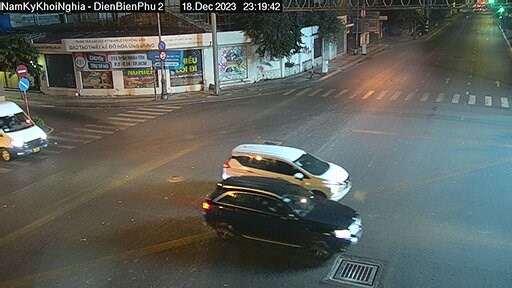car: (206, 174, 360, 259), (221, 129, 357, 199), (2, 94, 47, 165)
